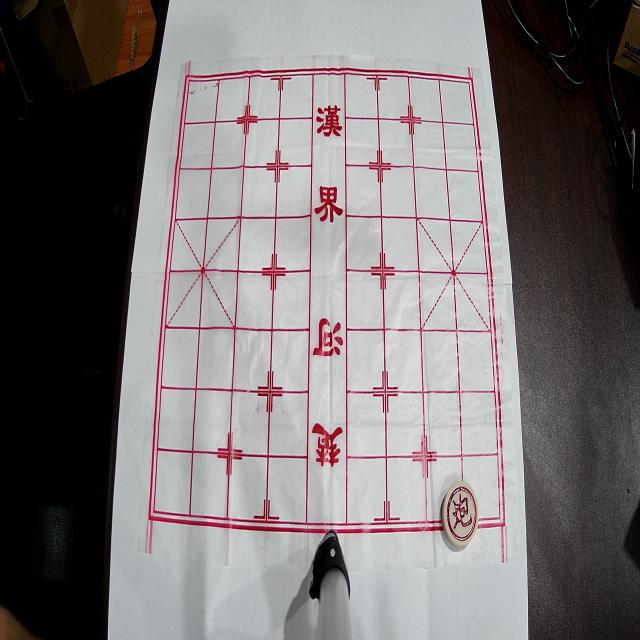red-cannon: (442, 481, 478, 547)
